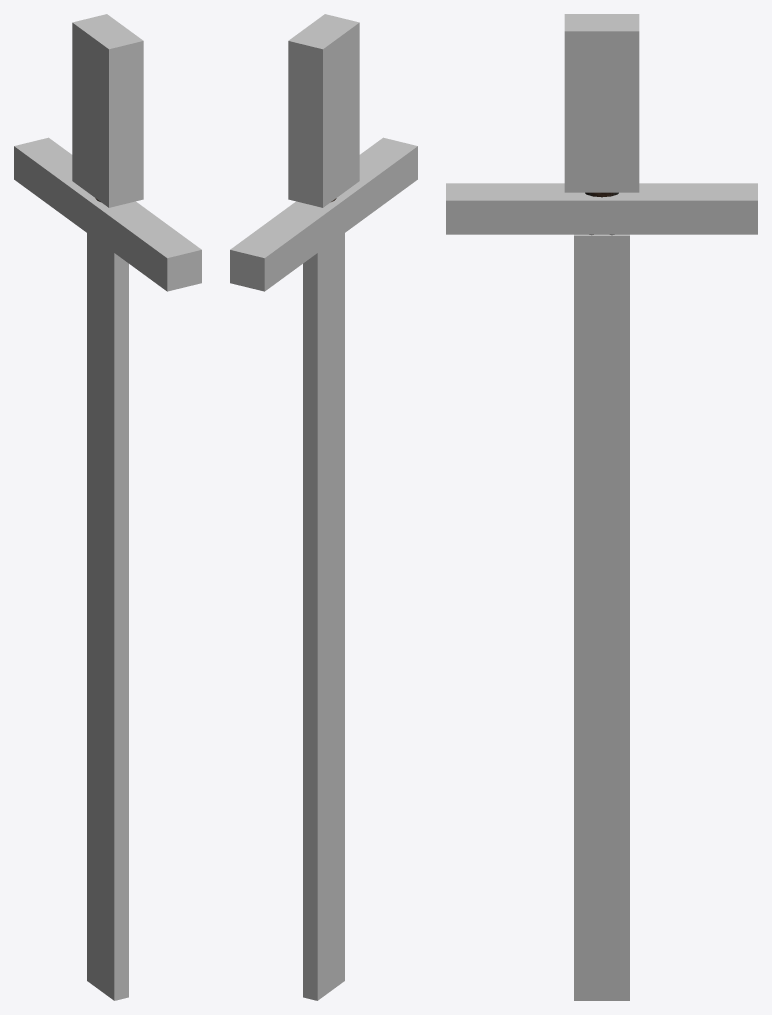
File: SM_Sword3.fbx
3 renders of one model, left to right at view 1: azimuth 30°, elevation 25°; view 2: azimuth 150°, elevation 25°; view 3: azimuth 270°, elevation 25°, orthographic.
Visible parts, largest first — view 1: SM_Sword3_ConvexHulls; view 2: SM_Sword3_ConvexHulls; view 3: SM_Sword3_ConvexHulls.
Boxes of the visible parts, bbox=[...] form: SM_Sword3_ConvexHulls: bbox=[14, 14, 201, 1000]; SM_Sword3_ConvexHulls: bbox=[230, 14, 417, 1000]; SM_Sword3_ConvexHulls: bbox=[446, 14, 757, 1000].
Bounding box in the file's own units: 3.99 × 30.53 × 105.
2 materials, 1 textured.
